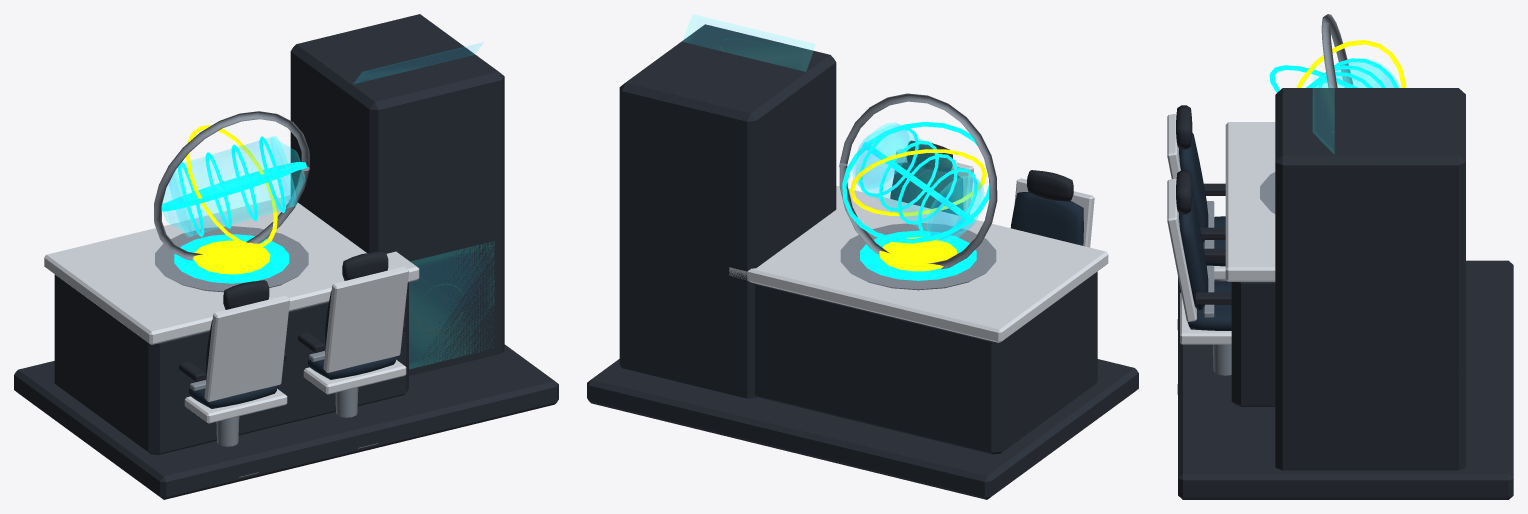
The model's file is bridge_console_r1_04.glb.
3 views of the same model, side by side, from view 1: azimuth 30°, elevation 25°; view 2: azimuth 150°, elevation 25°; view 3: azimuth 270°, elevation 25° (orthographic). The views are drawn at different scales.
Parts seen in each view (by area): view 1: Bridge04_OrreryCarbonHull, Bridge04_WhiteCowlingsAndChairs, Bridge04_TranslucentHoloCylinderAndHUD, Bridge04_MachinedOrreryCradleAndThrottles, Bridge04_CyanHoloWireframe, Bridge04_AmberGimbalRing, Bridge04_CharcoalBolsters, Bridge04_OrbitalNavyCushions; view 2: Bridge04_OrreryCarbonHull, Bridge04_WhiteCowlingsAndChairs, Bridge04_TranslucentHoloCylinderAndHUD, Bridge04_CyanHoloWireframe, Bridge04_MachinedOrreryCradleAndThrottles, Bridge04_OrbitalNavyCushions, Bridge04_AmberGimbalRing, Bridge04_CharcoalBolsters; view 3: Bridge04_OrreryCarbonHull, Bridge04_WhiteCowlingsAndChairs, Bridge04_OrbitalNavyCushions, Bridge04_MachinedOrreryCradleAndThrottles, Bridge04_CharcoalBolsters, Bridge04_TranslucentHoloCylinderAndHUD, Bridge04_CyanHoloWireframe, Bridge04_AmberGimbalRing.
Part boxes in pixels (x1=…): Bridge04_OrreryCarbonHull: x1=14, y1=14, x2=558, y2=499; Bridge04_WhiteCowlingsAndChairs: x1=44, y1=195, x2=419, y2=423; Bridge04_TranslucentHoloCylinderAndHUD: x1=162, y1=42, x2=493, y2=368; Bridge04_MachinedOrreryCradleAndThrottles: x1=154, y1=111, x2=377, y2=477; Bridge04_CyanHoloWireframe: x1=161, y1=136, x2=306, y2=283; Bridge04_AmberGimbalRing: x1=186, y1=125, x2=277, y2=274; Bridge04_CharcoalBolsters: x1=179, y1=251, x2=405, y2=381; Bridge04_OrbitalNavyCushions: x1=189, y1=291, x2=395, y2=408; Bridge04_OrreryCarbonHull: x1=587, y1=24, x2=1138, y2=499; Bridge04_WhiteCowlingsAndChairs: x1=729, y1=149, x2=1108, y2=342; Bridge04_TranslucentHoloCylinderAndHUD: x1=683, y1=14, x2=984, y2=242; Bridge04_CyanHoloWireframe: x1=842, y1=122, x2=989, y2=280; Bridge04_MachinedOrreryCradleAndThrottles: x1=839, y1=93, x2=997, y2=290; Bridge04_OrbitalNavyCushions: x1=890, y1=162, x2=1083, y2=245; Bridge04_AmberGimbalRing: x1=850, y1=149, x2=986, y2=271; Bridge04_CharcoalBolsters: x1=906, y1=140, x2=1073, y2=201; Bridge04_OrreryCarbonHull: x1=1178, y1=88, x2=1513, y2=499; Bridge04_WhiteCowlingsAndChairs: x1=1167, y1=114, x2=1275, y2=344; Bridge04_OrbitalNavyCushions: x1=1178, y1=133, x2=1231, y2=330; Bridge04_MachinedOrreryCradleAndThrottles: x1=1177, y1=14, x2=1353, y2=394; Bridge04_CharcoalBolsters: x1=1176, y1=105, x2=1231, y2=304; Bridge04_TranslucentHoloCylinderAndHUD: x1=1311, y1=58, x2=1399, y2=152; Bridge04_CyanHoloWireframe: x1=1269, y1=58, x2=1398, y2=92; Bridge04_AmberGimbalRing: x1=1296, y1=39, x2=1406, y2=87.
Size of the model in its own units: 2.48 by 1.92 by 1.67.
11 materials, 11 textured.
